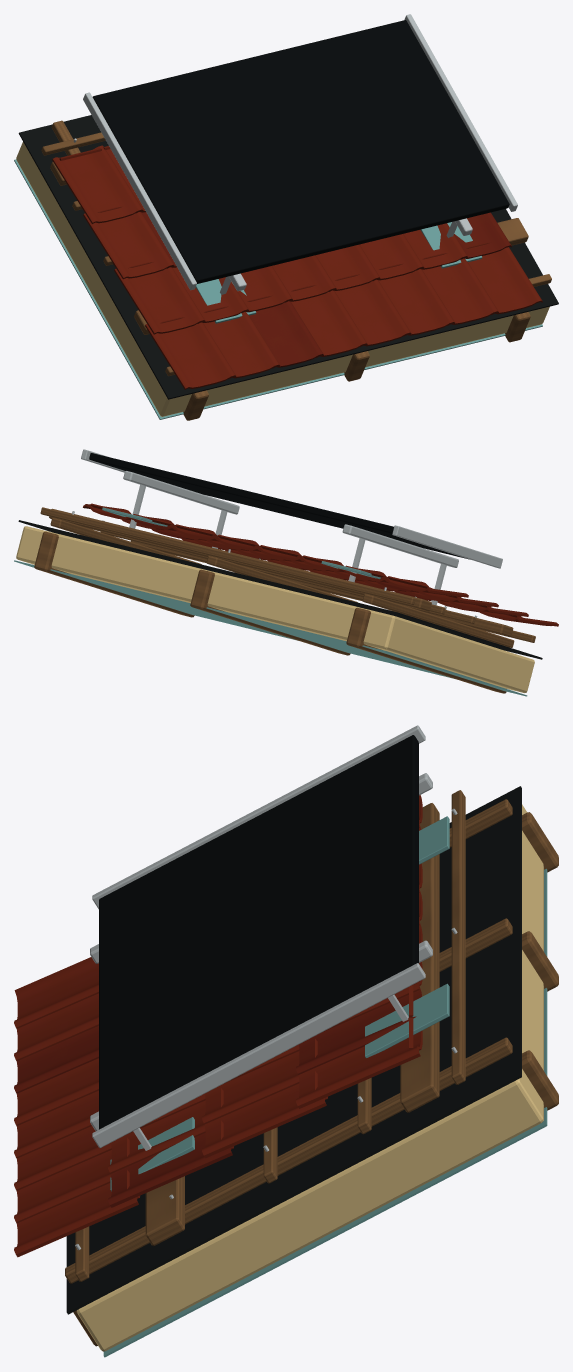
File: modell.glb
3 renders of one model, top to bottom at view 1: azimuth 30°, elevation 25°; view 2: azimuth 150°, elevation 25°; view 3: azimuth 270°, elevation 25°, orthographic. The views are drawn at different scales.
Parts seen in each view (by area): view 1: a01-modul_, a01-deckziegel_deckung, a01-daemmung_daemmung, a01-zusatzebene_zusatzebene, a01-deckziegel_deckung.001, a01-modul_.001, a01-luftdichtheit_luftdichtheit, a01-sparren_tragwerk, a01-lattung_lattung, a01-wetteranschluss_deckung, a01-befestigungsuntergrund_lattung; view 2: a01-daemmung_daemmung, a01-lattung_lattung, a01-deckziegel_deckung, a01-modul_, a01-sparren_tragwerk, a01-luftdichtheit_luftdichtheit, a01-befestigungsuntergrund_lattung, a01-zusatzebene_zusatzebene, a01-schiene_, a01-modul_.001, a01-halter_, a01-deckziegel_deckung.001 (+1 smaller); view 3: a01-modul_, a01-zusatzebene_zusatzebene, a01-deckziegel_deckung, a01-daemmung_daemmung, a01-lattung_lattung, a01-modul_.001, a01-deckziegel_deckung.001, a01-befestigungsuntergrund_lattung, a01-wetteranschluss_deckung, a01-luftdichtheit_luftdichtheit, a01-sparren_tragwerk.
Boxes of the visible parts, x1=… form: a01-modul_: x1=92, y1=20, x2=509, y2=283; a01-deckziegel_deckung: x1=52, y1=145, x2=542, y2=389; a01-daemmung_daemmung: x1=16, y1=142, x2=549, y2=416; a01-zusatzebene_zusatzebene: x1=18, y1=115, x2=558, y2=399; a01-deckziegel_deckung.001: x1=141, y1=212, x2=511, y2=368; a01-modul_.001: x1=83, y1=14, x2=517, y2=290; a01-luftdichtheit_luftdichtheit: x1=14, y1=159, x2=542, y2=419; a01-sparren_tragwerk: x1=183, y1=312, x2=530, y2=420; a01-lattung_lattung: x1=41, y1=120, x2=551, y2=376; a01-wetteranschluss_deckung: x1=195, y1=222, x2=482, y2=323; a01-befestigungsuntergrund_lattung: x1=50, y1=162, x2=528, y2=334; a01-daemmung_daemmung: x1=16, y1=526, x2=534, y2=692; a01-lattung_lattung: x1=40, y1=507, x2=535, y2=647; a01-deckziegel_deckung: x1=83, y1=503, x2=558, y2=626; a01-modul_: x1=89, y1=453, x2=469, y2=559; a01-sparren_tragwerk: x1=34, y1=531, x2=506, y2=693; a01-luftdichtheit_luftdichtheit: x1=14, y1=560, x2=527, y2=696; a01-befestigungsuntergrund_lattung: x1=49, y1=508, x2=513, y2=636; a01-zusatzebene_zusatzebene: x1=18, y1=520, x2=542, y2=659; a01-schiene_: x1=123, y1=471, x2=458, y2=567; a01-modul_.001: x1=81, y1=449, x2=502, y2=568; a01-halter_: x1=129, y1=484, x2=446, y2=605; a01-deckziegel_deckung.001: x1=126, y1=516, x2=431, y2=600; a01-modul_: x1=99, y1=735, x2=418, y2=1129; a01-zusatzebene_zusatzebene: x1=66, y1=786, x2=521, y2=1314; a01-deckziegel_deckung: x1=14, y1=795, x2=422, y2=1257; a01-daemmung_daemmung: x1=77, y1=804, x2=543, y2=1351; a01-lattung_lattung: x1=65, y1=790, x2=512, y2=1283; a01-modul_.001: x1=92, y1=725, x2=425, y2=1147; a01-deckziegel_deckung.001: x1=14, y1=984, x2=421, y2=1207; a01-befestigungsuntergrund_lattung: x1=145, y1=803, x2=439, y2=1245; a01-wetteranschluss_deckung: x1=110, y1=816, x2=449, y2=1191; a01-luftdichtheit_luftdichtheit: x1=103, y1=868, x2=547, y2=1357; a01-sparren_tragwerk: x1=73, y1=812, x2=558, y2=1346.
Bounding box in the file's own units: 2.14 × 1.3 × 1.71.
Materials: 8 (3 with a texture image).
